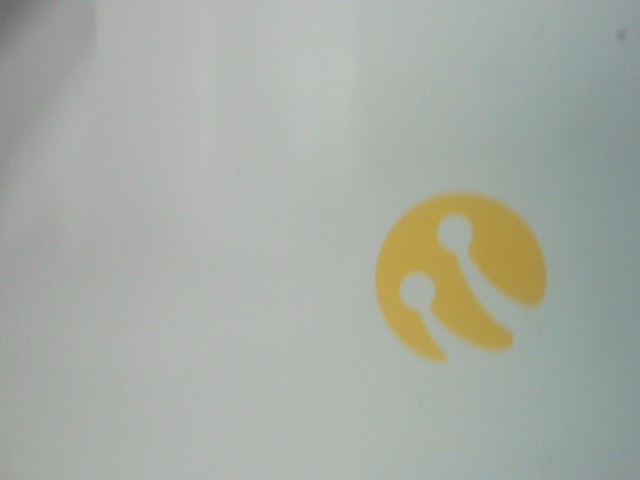AV_H3600Yellow: (347, 180, 562, 363)
